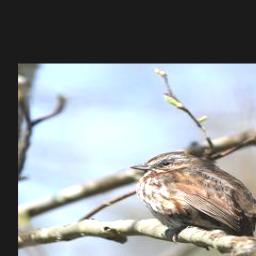Sparrow: (132, 149, 256, 256)
